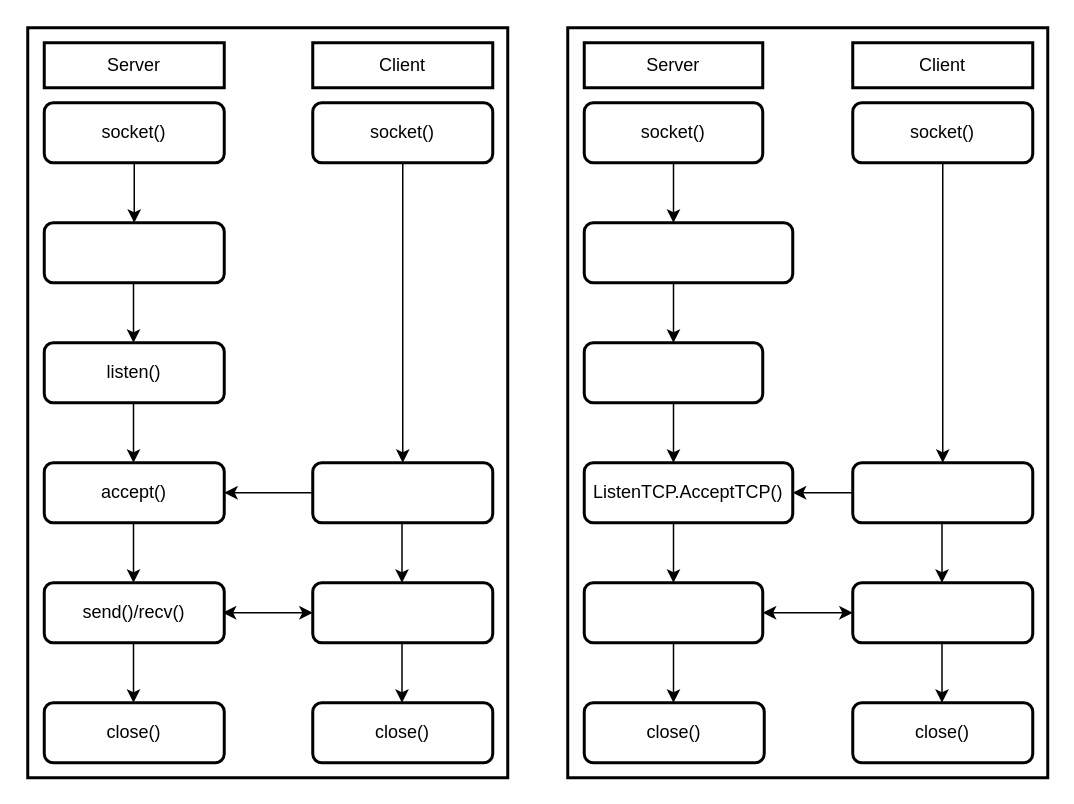
The diagram is 1074 pixels wide and 804 high, and some of its shapes have lost their labels. The shapes that lost their labels are listed below. From the top down, each one's centre as x and y in pixels, then its label:
the point at 133,252: bind()
the point at 688,252: net.ResolveTCPAddr()
the point at 673,372: net.ListenTCP()
the point at 402,492: connect()
the point at 942,492: net.Dial()
the point at 402,612: send/recv()
the point at 673,612: write()/read()
the point at 942,612: write/read()
